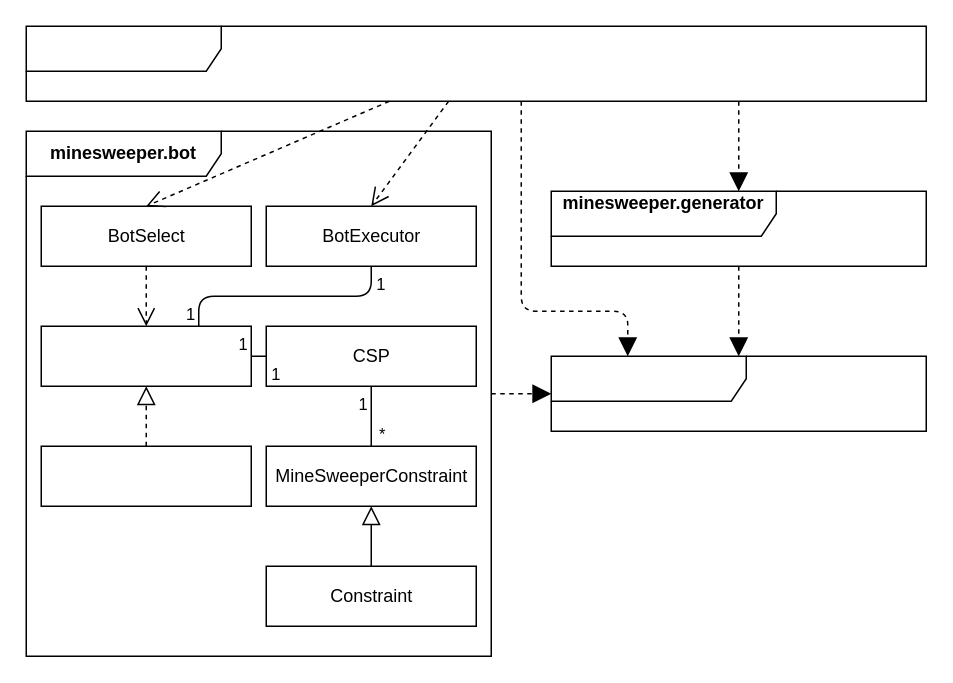
This 953x683 diagram has some shape labels left out. The centre of each missing label's shape, as x and y in pixels:
"Bot" goes at (145,475).
"minesweeper.gui" goes at (475,63).
"minesweeper.model" goes at (738,393).
"MyBot" goes at (145,355).
